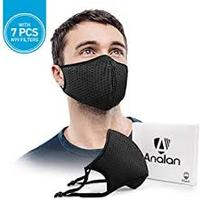flu mask: (59, 55, 135, 113), (84, 129, 150, 193)
